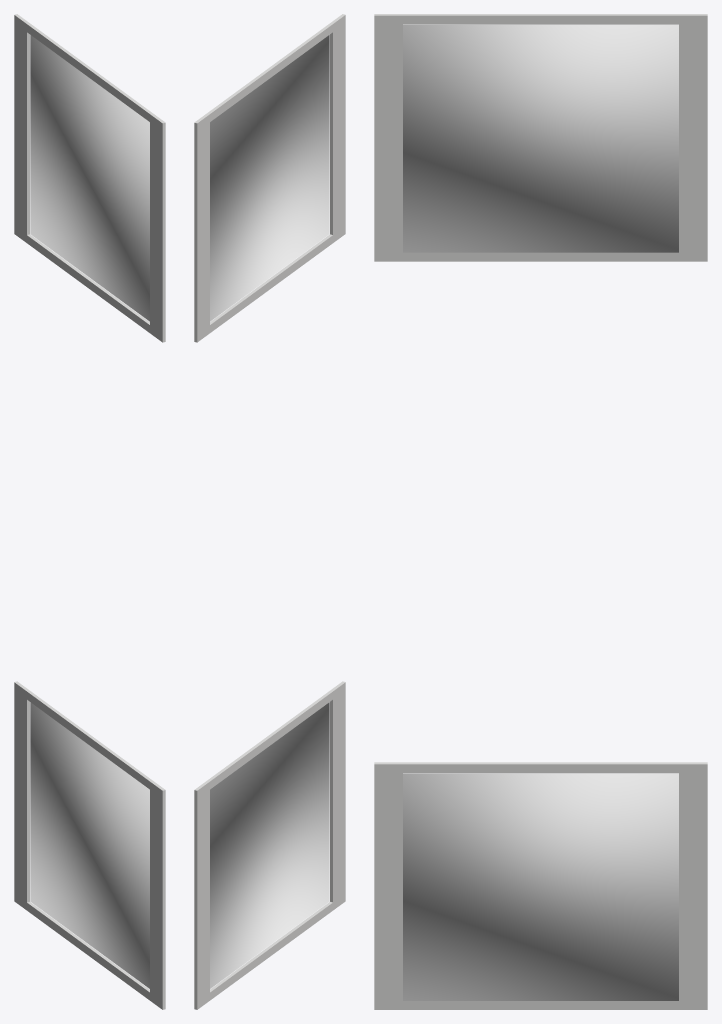
The model's file is VentanasMovibles_cristales.fbx.
The picture shows the model from 3 angles, left to right: view 1: azimuth 30°, elevation 25°; view 2: azimuth 150°, elevation 25°; view 3: azimuth 270°, elevation 25°; orthographic projection. The views are drawn at different scales.
Visible parts, largest first — view 1: VentanaD, VentanaD.001, MarcoVentanaD, MarcoVentanaD.001; view 2: VentanaD, VentanaD.001, MarcoVentanaD, MarcoVentanaD.001; view 3: VentanaD, VentanaD.001, MarcoVentanaD, MarcoVentanaD.001.
Part boxes in pixels (x1,y1,x2,y2): VentanaD: [30, 702, 149, 988]; VentanaD.001: [30, 35, 149, 321]; MarcoVentanaD: [14, 681, 165, 1009]; MarcoVentanaD.001: [14, 14, 165, 342]; VentanaD: [210, 702, 329, 988]; VentanaD.001: [210, 35, 329, 321]; MarcoVentanaD: [194, 681, 345, 1009]; MarcoVentanaD.001: [194, 14, 345, 342]; VentanaD: [403, 773, 678, 1000]; VentanaD.001: [403, 25, 678, 252]; MarcoVentanaD: [374, 762, 707, 1009]; MarcoVentanaD.001: [374, 14, 707, 261].
Bounding box in the file's own units: 1.69 × 403 × 122.
